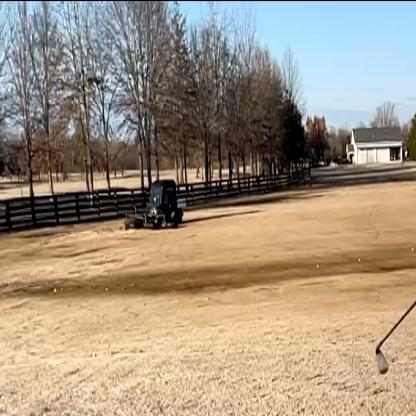GolfBall: (372, 340, 388, 378)
